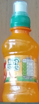orange: (2, 1, 38, 103)
